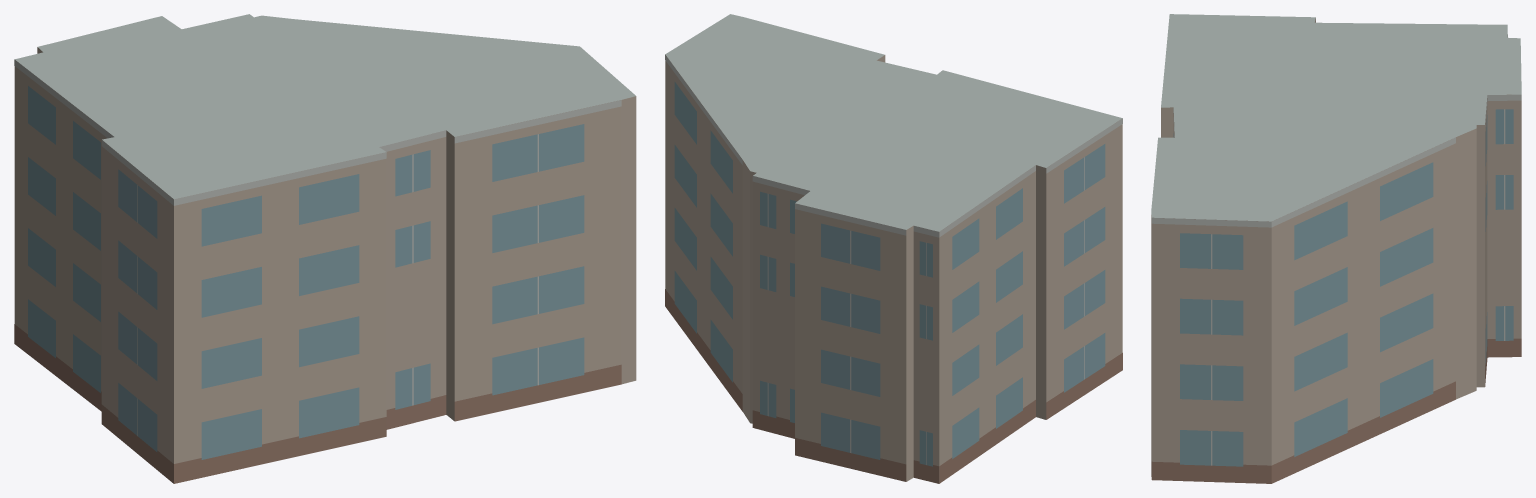
File: survey-upis-32573342.glb
3 views of the same model, side by side, from view 1: azimuth 30°, elevation 25°; view 2: azimuth 150°, elevation 25°; view 3: azimuth 270°, elevation 25° (orthographic). The views are drawn at different scales.
Parts seen in each view (by area): view 1: survey-upis-32573342.tmp; view 2: survey-upis-32573342.tmp; view 3: survey-upis-32573342.tmp.
Boxes of the visible parts, x1=… form: survey-upis-32573342.tmp: x1=14, y1=14, x2=636, y2=483; survey-upis-32573342.tmp: x1=665, y1=14, x2=1122, y2=483; survey-upis-32573342.tmp: x1=1151, y1=14, x2=1521, y2=483.
Size of the model in its own units: 17.99 by 10.6 by 13.58.
